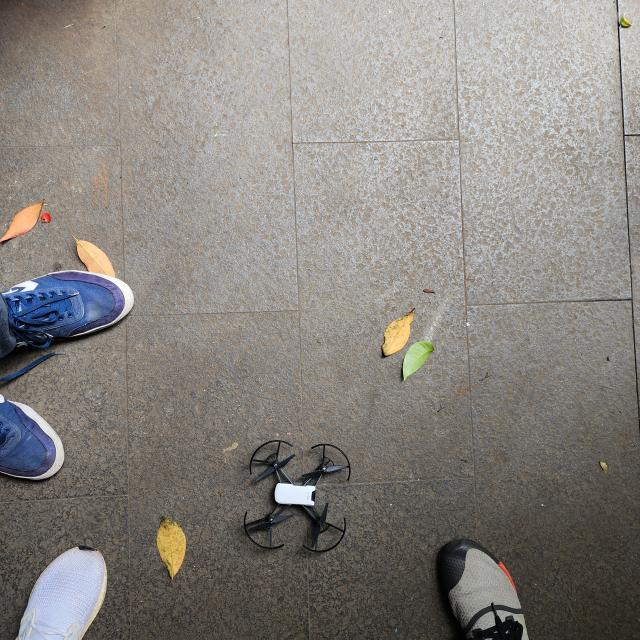drone: (244, 440, 351, 553)
